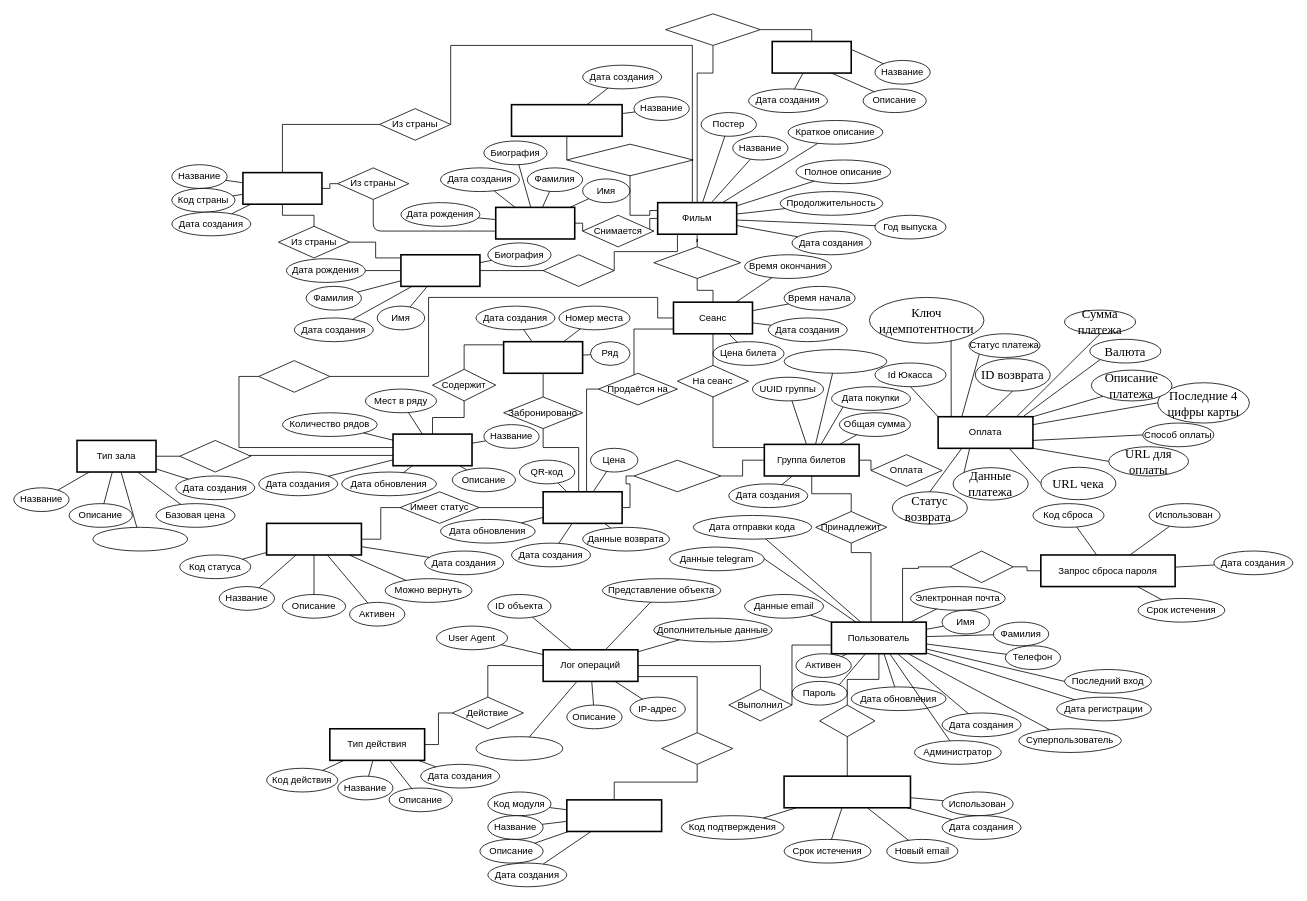
Some shapes in this 1307 by 901 pixel diagram are drawn without their labels. Here are the shapes that lost their labels. From the top down, the box of each, then its label:
(665, 13, 760, 45): Относится к жанру
(771, 40, 852, 73): Жанр
(510, 103, 623, 137): Возрастной рейтинг
(566, 143, 693, 176): Имеет возрастной рейтинг
(242, 171, 322, 205): Страна
(495, 206, 575, 239): Актёр
(400, 254, 480, 287): Режиссёр
(542, 254, 614, 286): Снимает
(653, 246, 741, 278): Демонстрирует
(258, 360, 330, 392): Использует
(502, 340, 583, 374): Место
(783, 349, 887, 373): Количество билетов
(179, 440, 251, 472): Имеет тип
(392, 433, 472, 466): Зал
(633, 459, 721, 492): Входит в группу
(542, 491, 623, 524): Билет
(92, 527, 188, 551): Коэффициент цены
(265, 522, 362, 555): Статус билета
(949, 550, 1013, 583): Запросил
(819, 704, 875, 737): Меняет
(475, 736, 563, 760): Время операции
(661, 732, 733, 764): Модуль
(783, 775, 911, 808): Запрос смены email
(566, 799, 662, 832): Модуль системы
